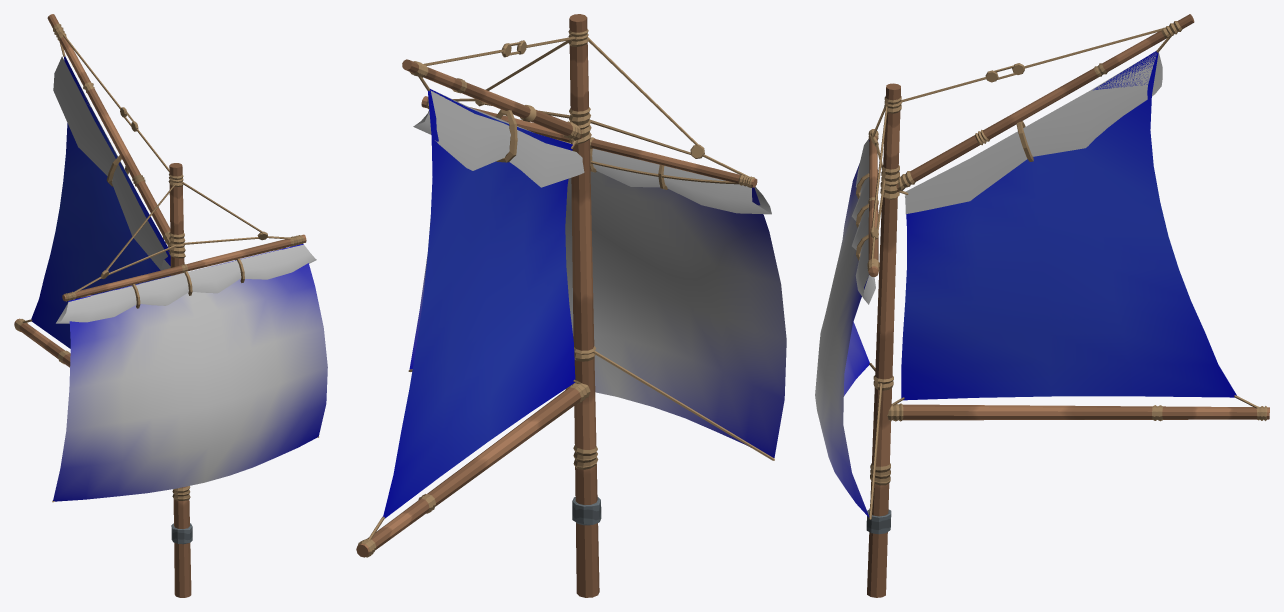
File: SM_Veh_Ship_S_Mast_Middle_01.fbx
3 views of the same model, side by side, from view 1: azimuth 30°, elevation 25°; view 2: azimuth 150°, elevation 25°; view 3: azimuth 270°, elevation 25° (orthographic). The views are drawn at different scales.
Parts seen in each view (by area): view 1: SM_Veh_Ship_S_Mast_Middle_01_Boom_01, SM_Veh_Ship_S_Mast_Middle_01_Boom_Back_01, SM_Veh_Ship_S_Mast_Middle_01; view 2: SM_Veh_Ship_S_Mast_Middle_01_Boom_Back_01, SM_Veh_Ship_S_Mast_Middle_01_Boom_01, SM_Veh_Ship_S_Mast_Middle_01; view 3: SM_Veh_Ship_S_Mast_Middle_01_Boom_Back_01, SM_Veh_Ship_S_Mast_Middle_01, SM_Veh_Ship_S_Mast_Middle_01_Boom_01.
Part boxes in pixels (box(x1,y1,x2,y2)): SM_Veh_Ship_S_Mast_Middle_01_Boom_01: box(52, 244, 327, 502); SM_Veh_Ship_S_Mast_Middle_01_Boom_Back_01: box(22, 41, 170, 348); SM_Veh_Ship_S_Mast_Middle_01: box(14, 14, 306, 597); SM_Veh_Ship_S_Mast_Middle_01_Boom_Back_01: box(367, 76, 584, 540); SM_Veh_Ship_S_Mast_Middle_01_Boom_01: box(408, 110, 786, 460); SM_Veh_Ship_S_Mast_Middle_01: box(356, 14, 757, 597); SM_Veh_Ship_S_Mast_Middle_01_Boom_Back_01: box(891, 36, 1259, 408); SM_Veh_Ship_S_Mast_Middle_01: box(866, 14, 1269, 597); SM_Veh_Ship_S_Mast_Middle_01_Boom_01: box(815, 139, 882, 519).
Bounding box in the file's own units: 1313 × 2283 × 1621.
